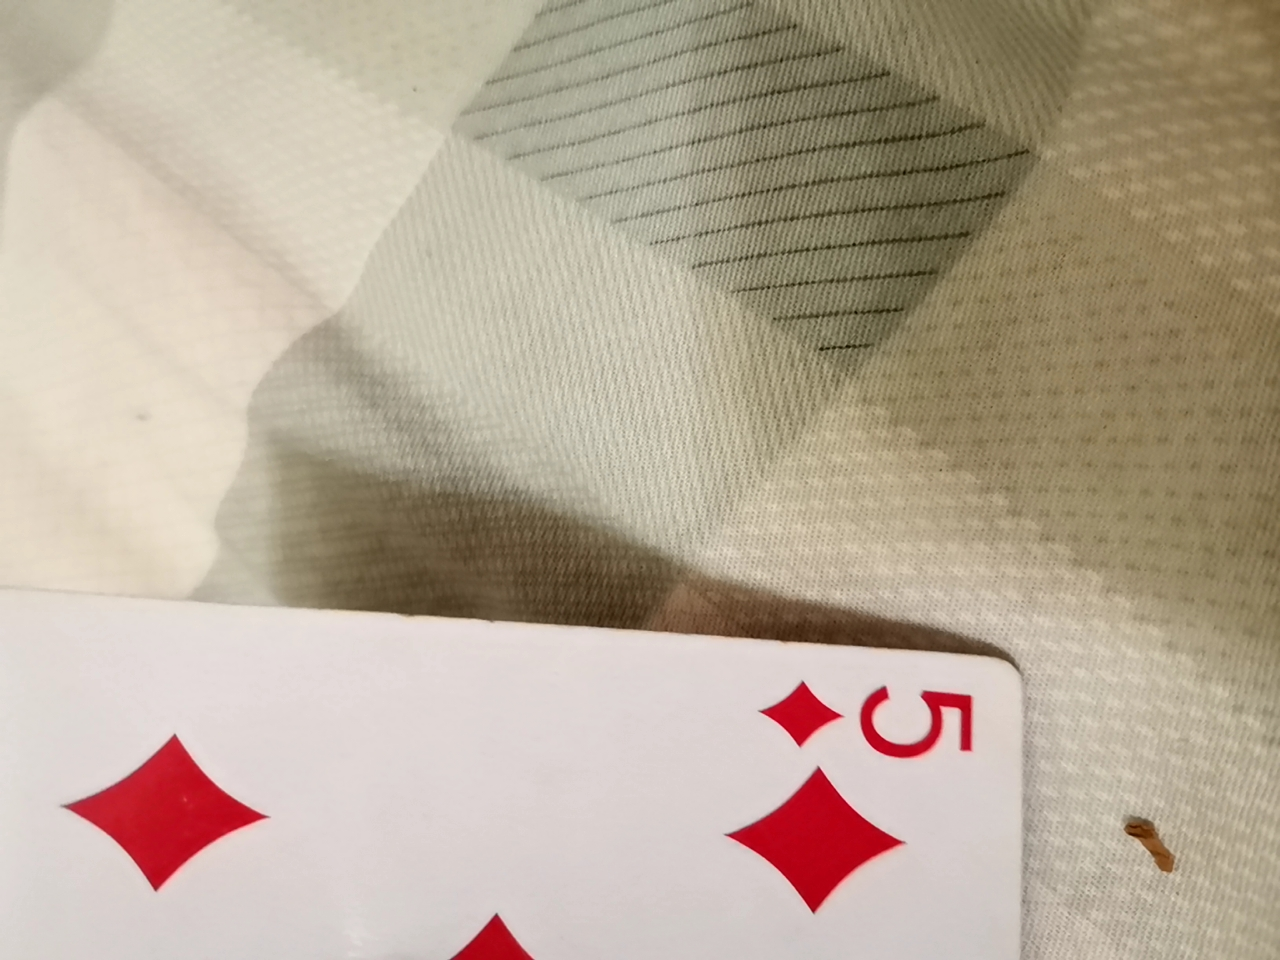fk 5: (1, 601, 1051, 960)
